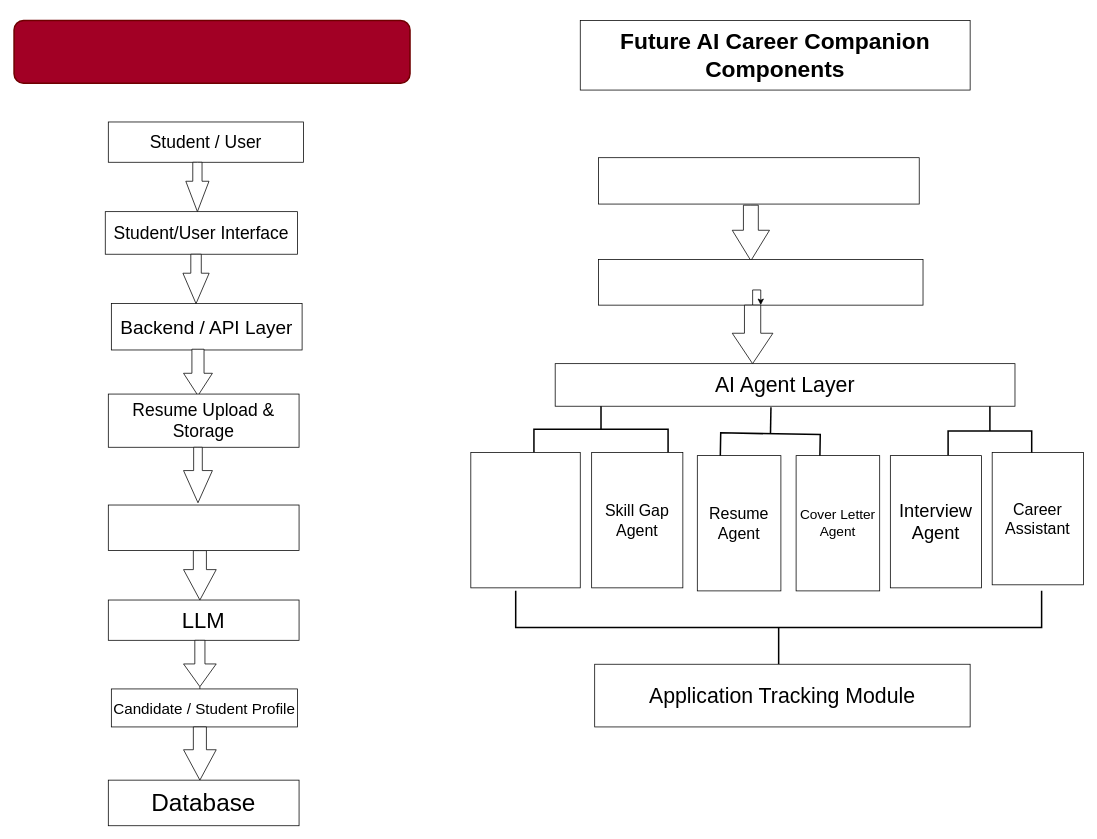
The diagram is 1097 pixels wide and 839 high, and some of its shapes have lost their labels. Each missing label, with the centre of its shape:
AI Career Companion — System Architecture: pixel 211 51
Job-Posting Knowledge Base: pixel 758 180
Job-Resume Matching Agent: pixel 525 520
RAG Pipeline: pixel 760 282
Resume Parsing Module: pixel 203 527
